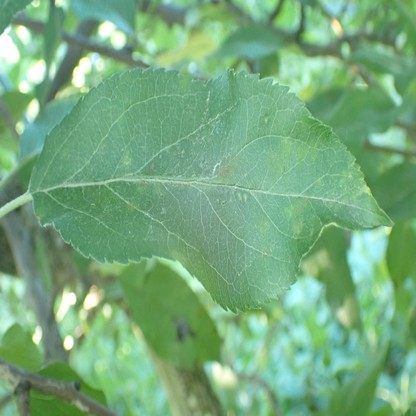scab: (317, 171, 368, 213), (285, 196, 308, 235), (268, 138, 293, 173), (297, 135, 319, 160), (217, 162, 233, 179), (216, 190, 229, 206), (35, 206, 48, 219), (152, 182, 164, 196), (121, 151, 129, 168), (136, 180, 147, 192), (260, 247, 273, 257), (237, 192, 248, 203), (127, 201, 137, 212), (258, 221, 267, 233)
